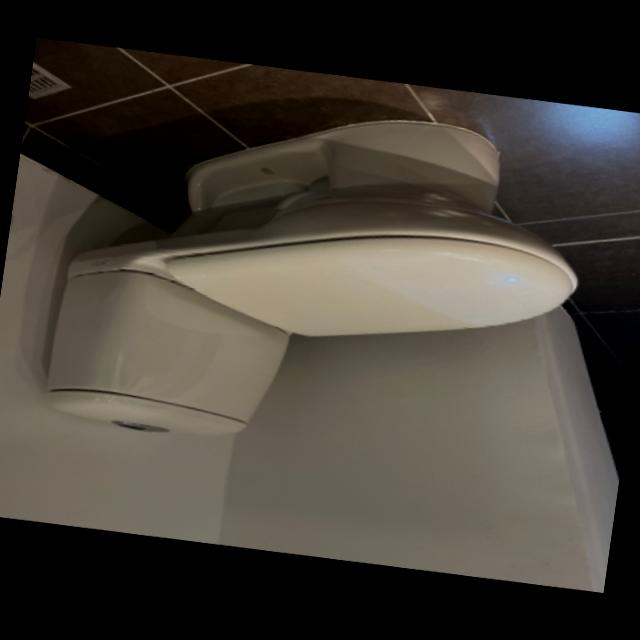toilet: (40, 74, 600, 492)
